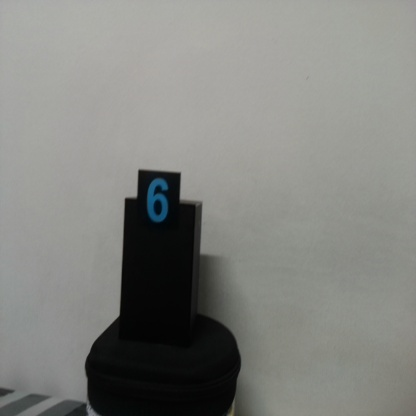id_6: (137, 170, 181, 241)
